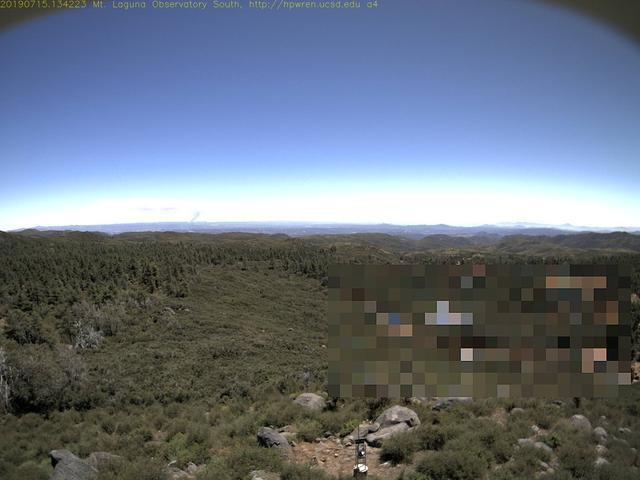smoke: (189, 207, 209, 225)
